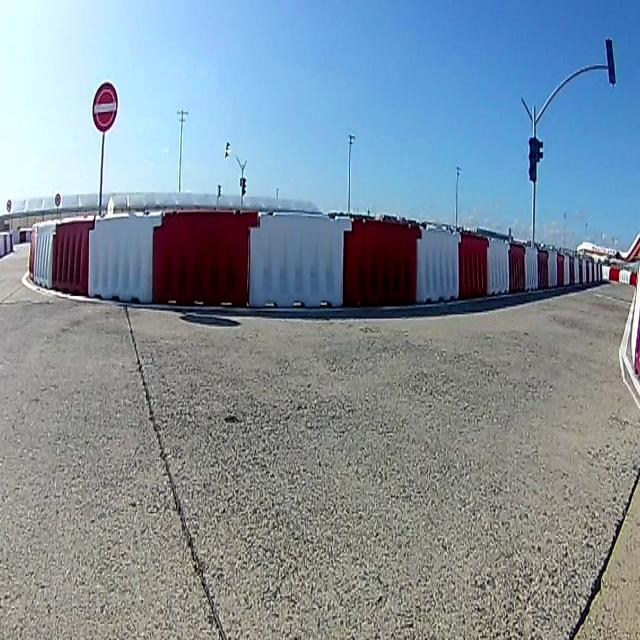girisyok: (93, 83, 117, 129)
